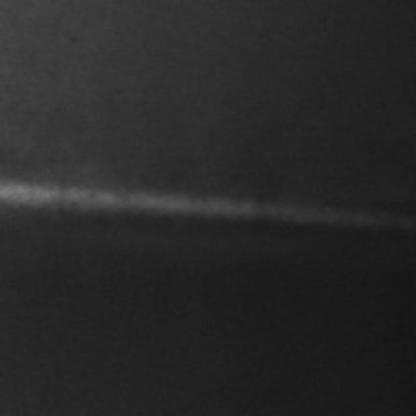scratches: (0, 172, 356, 224)
